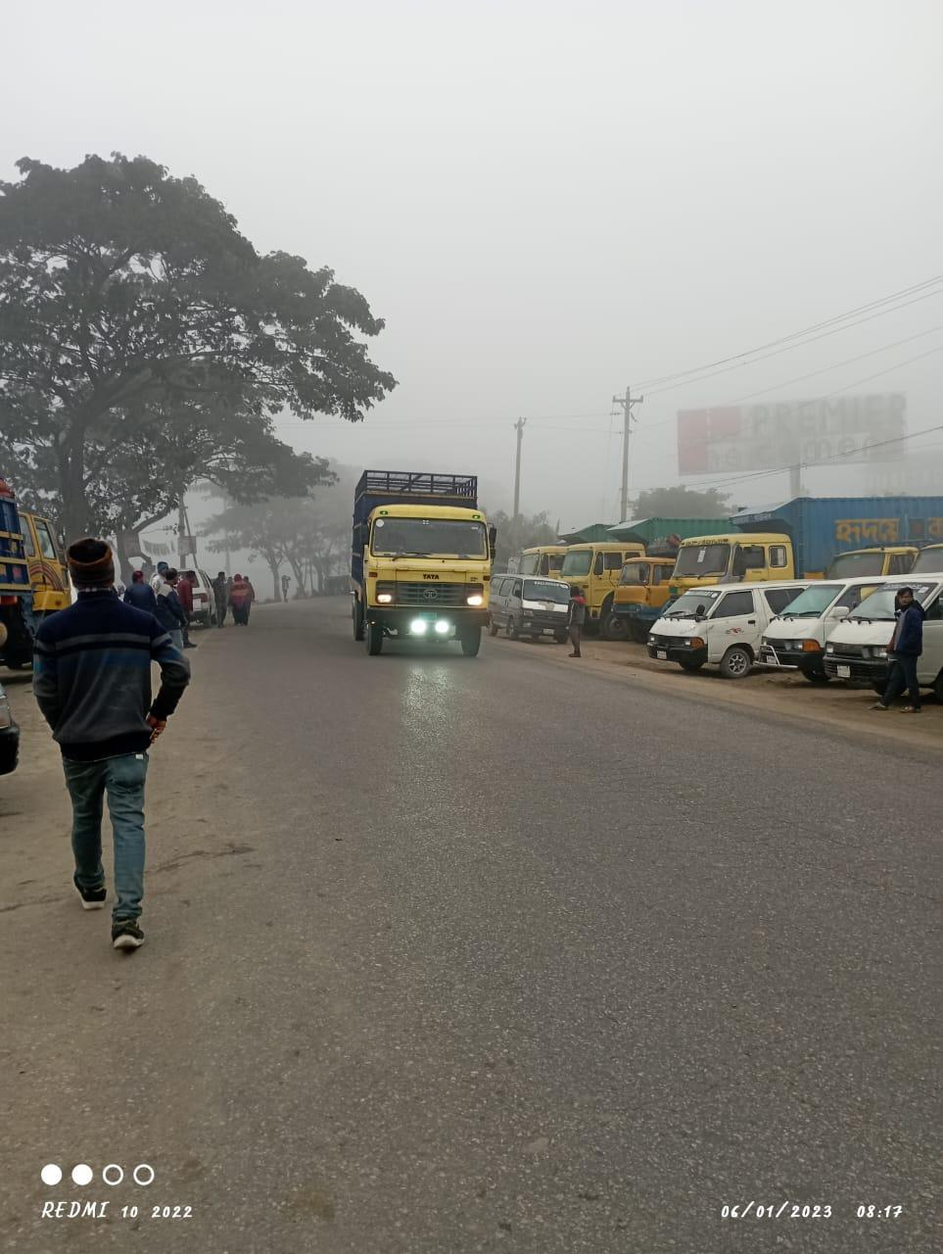Car: (650, 565, 787, 677), (842, 579, 943, 694), (766, 576, 846, 681), (491, 565, 586, 650)
Truck: (347, 455, 509, 665), (679, 513, 789, 614)
